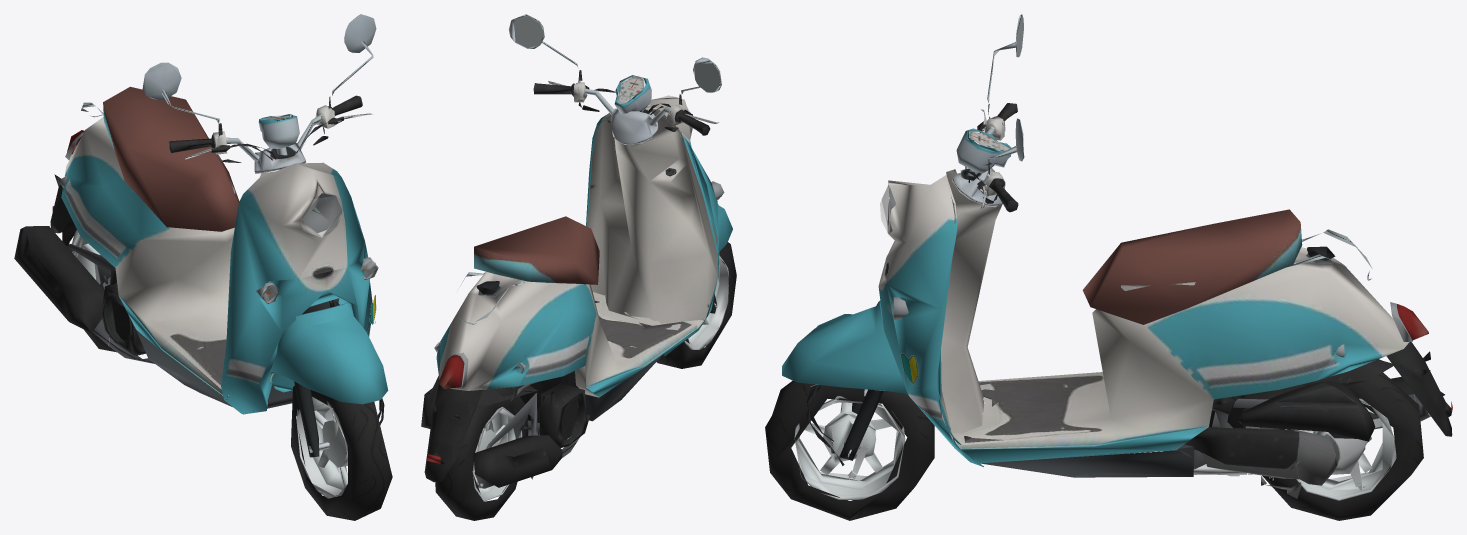
File: xe-ga-vino.glb
The picture shows the model from 3 angles, left to right: view 1: azimuth 30°, elevation 25°; view 2: azimuth 150°, elevation 25°; view 3: azimuth 270°, elevation 25°; orthographic projection. The views are drawn at different scales.
Parts seen in each view (by area): view 1: Plane003_Main Body_0, Sphere001_Main Body_0, Sphere001_Tire_0, Plane003_SmallParts_0, Sphere001_SmallParts_0, Plane003_Lamp & Glass_0, Plane003_Glass_0, Plane003_Tire_0; view 2: Plane003_Main Body_0, Plane003_SmallParts_0, Sphere001_SmallParts_0, Plane003_Tire_0, Sphere001_Tire_0, Plane003_Lamp & Glass_0, Sphere001_Main Body_0, Sphere001_Glass_0; view 3: Plane003_Main Body_0, Plane003_SmallParts_0, Sphere001_Tire_0, Plane003_Tire_0, Sphere001_Main Body_0, Sphere001_SmallParts_0, Plane003_Lamp & Glass_0.
Boxes of the visible parts, box(x1,y1,x2,y2) form: Plane003_Main Body_0: box(61, 86, 372, 414); Sphere001_Main Body_0: box(270, 301, 388, 457); Sphere001_Tire_0: box(291, 385, 392, 520); Plane003_SmallParts_0: box(14, 102, 154, 363); Sphere001_SmallParts_0: box(142, 14, 384, 452); Plane003_Lamp & Glass_0: box(52, 130, 378, 304); Plane003_Glass_0: box(62, 186, 375, 301); Plane003_Tire_0: box(62, 218, 123, 352); Plane003_Main Body_0: box(436, 96, 719, 421); Plane003_SmallParts_0: box(421, 272, 590, 488); Sphere001_SmallParts_0: box(508, 14, 721, 307); Plane003_Tire_0: box(435, 387, 528, 520); Sphere001_Tire_0: box(656, 242, 736, 368); Plane003_Lamp & Glass_0: box(427, 181, 724, 463); Sphere001_Main Body_0: box(710, 204, 732, 313); Sphere001_Glass_0: box(617, 76, 645, 102); Plane003_Main Body_0: box(878, 169, 1409, 477); Plane003_SmallParts_0: box(1165, 229, 1452, 498); Sphere001_Tire_0: box(765, 380, 934, 520); Plane003_Tire_0: box(1260, 372, 1423, 520); Sphere001_Main Body_0: box(782, 300, 908, 460); Sphere001_SmallParts_0: box(806, 14, 1024, 479); Plane003_Lamp & Glass_0: box(889, 187, 1452, 414).
Size of the model in its own units: 0.4196 by 0.7176 by 0.9951.
Materials: 6 (6 with a texture image).
